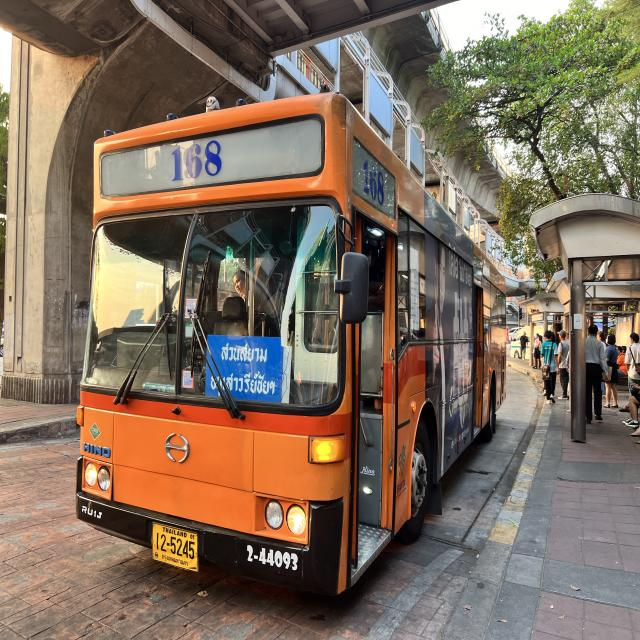BMTA-bus: (75, 94, 506, 600)
Bus Line Number: (164, 140, 232, 182)
Bus Side Number: (236, 533, 304, 577)
Destination Sign: (203, 339, 285, 400)
